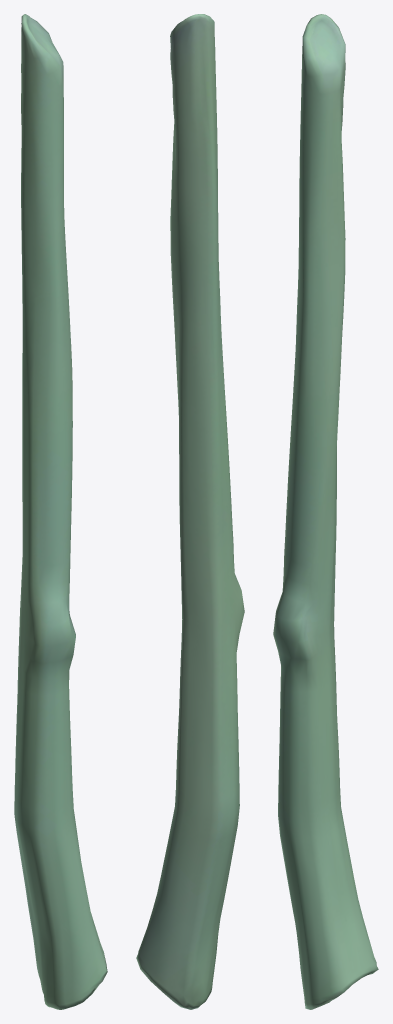
Rendered from monstera_petiole.glb.
The picture shows the model from 3 angles, left to right: view 1: azimuth 30°, elevation 25°; view 2: azimuth 150°, elevation 25°; view 3: azimuth 330°, elevation 25°; orthographic projection. The views are drawn at different scales.
Visible parts, largest first — view 1: tripo_node_fb253dae-25d6-47fc-a134-add335e82e4d; view 2: tripo_node_fb253dae-25d6-47fc-a134-add335e82e4d; view 3: tripo_node_fb253dae-25d6-47fc-a134-add335e82e4d.
Part boxes in pixels (bbox=[...]): tripo_node_fb253dae-25d6-47fc-a134-add335e82e4d: bbox=[14, 14, 107, 1009]; tripo_node_fb253dae-25d6-47fc-a134-add335e82e4d: bbox=[136, 14, 244, 1009]; tripo_node_fb253dae-25d6-47fc-a134-add335e82e4d: bbox=[273, 14, 378, 1009].
Bounding box in the file's own units: 0.0896 × 0.9983 × 0.073.
Materials: 1 (1 with a texture image).
